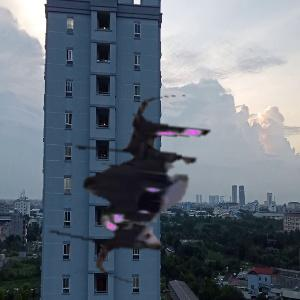drone: (37, 85, 245, 293)
